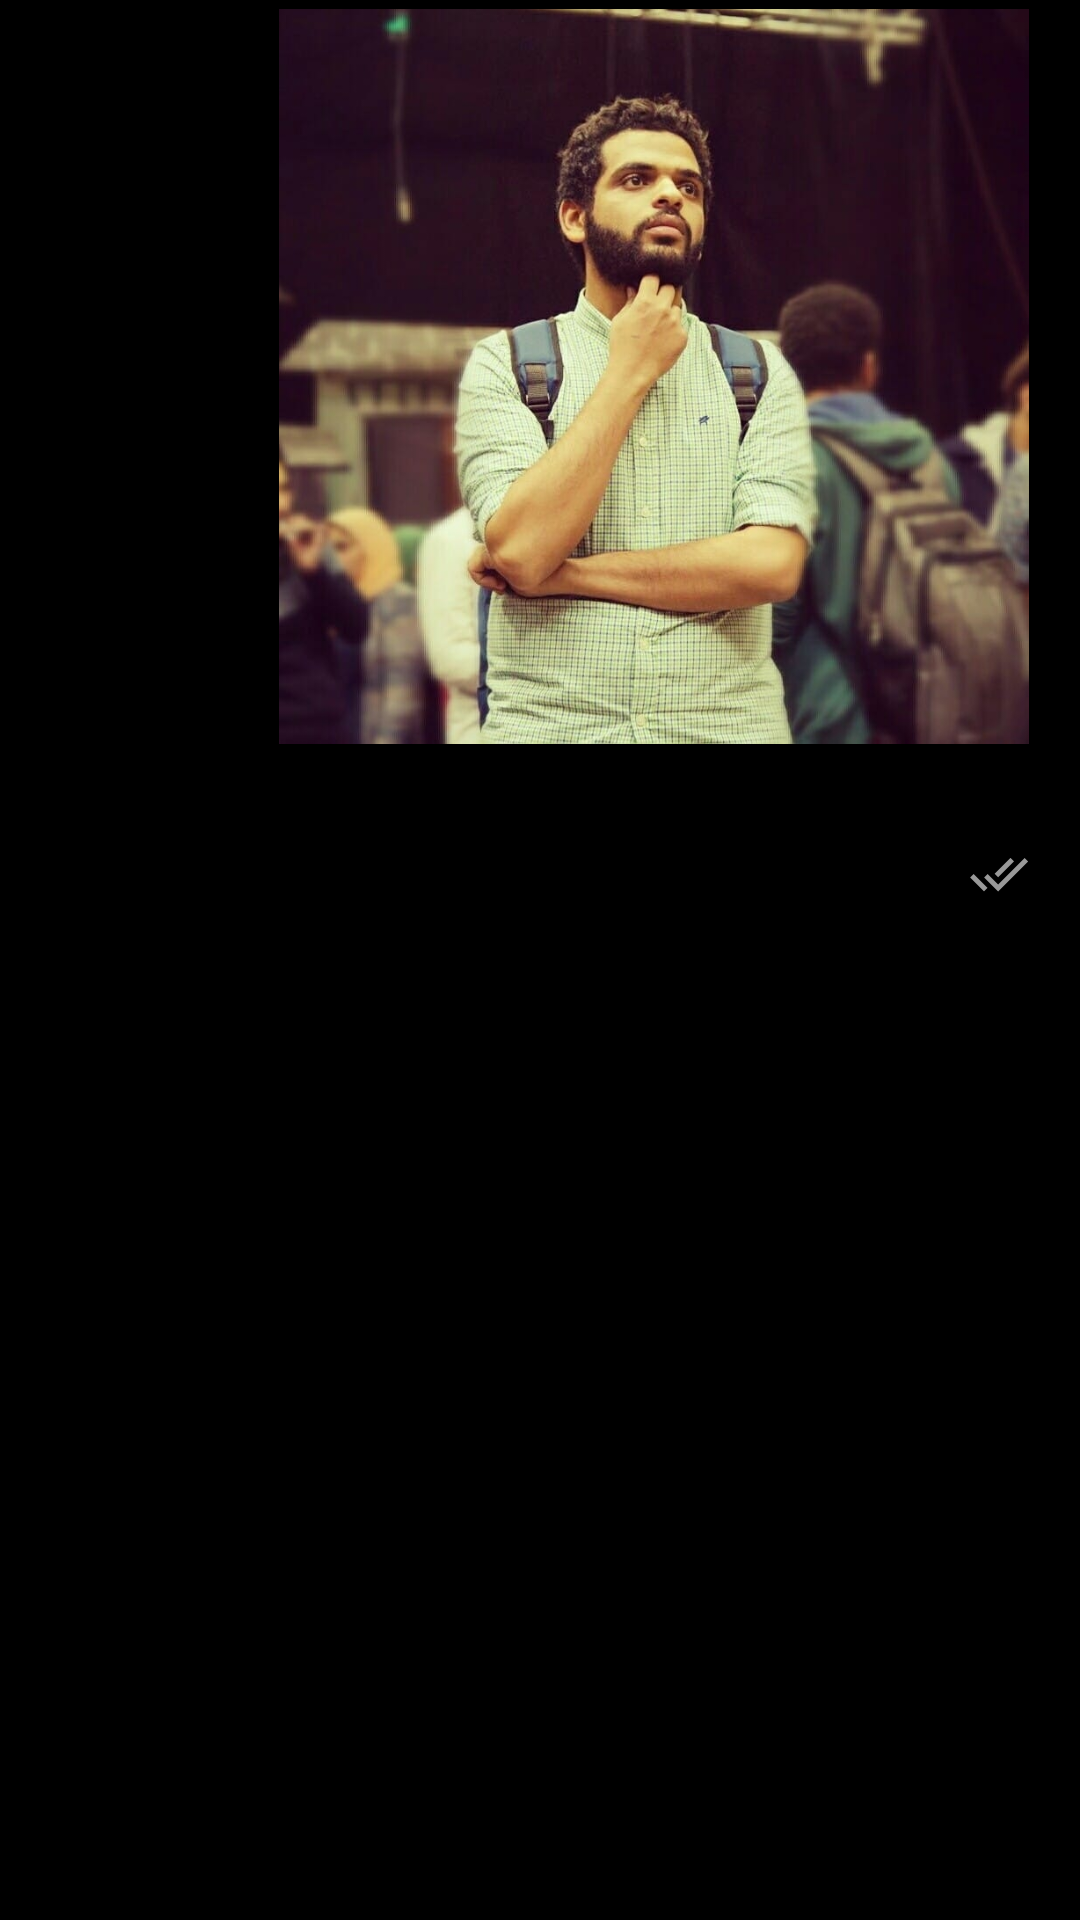

Icons on this 1080×1920 Android screen, each with the point to tap as point (x, y):
sent: point (999, 875)
